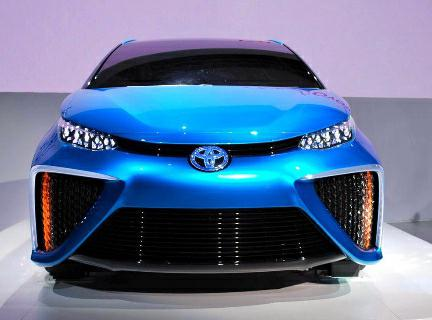丰田-FCV: (23, 32, 397, 304)
